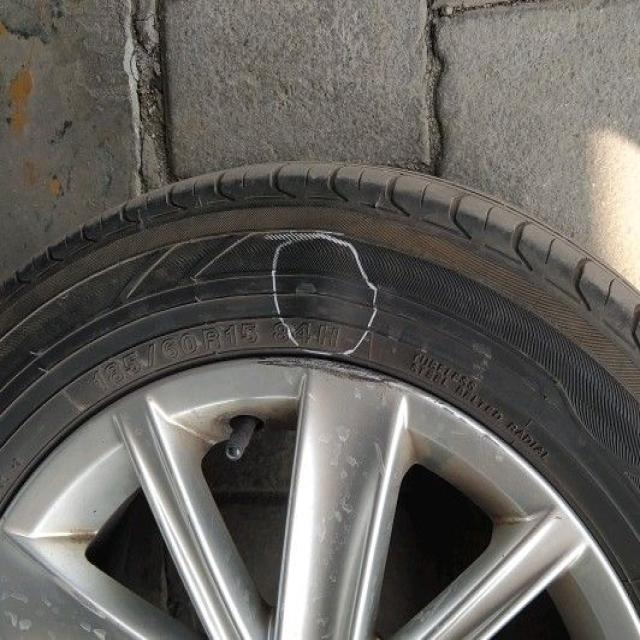Bulge: (290, 236, 352, 350)
